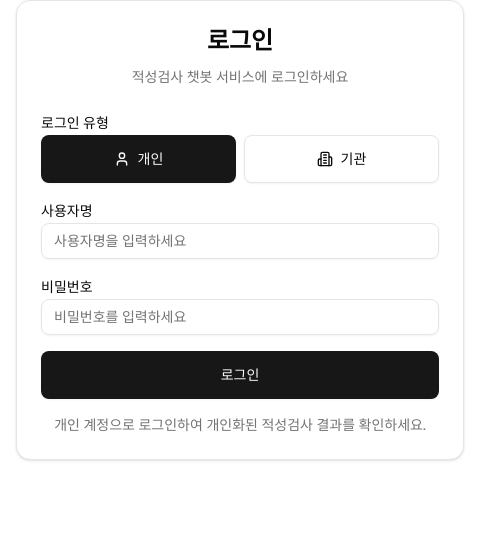
LoginForm › validates required fields
Try to submit without filling fields
What coordinates should you click on to do the following:
click the button "로그인"
I would click on:
 (240, 375)
Its box is x1=41 y1=351 x2=439 y2=399.
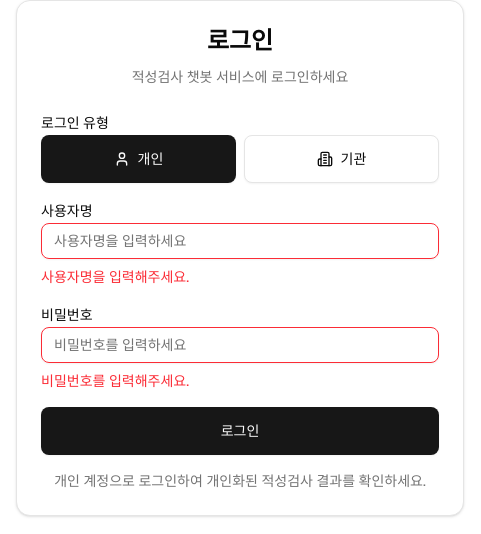
Expected: the text "사용자명을 입력해주세요." is shown, x1=41 y1=268 x2=189 y2=286
Expected: the text "비밀번호를 입력해주세요." is shown, x1=41 y1=372 x2=189 y2=390
